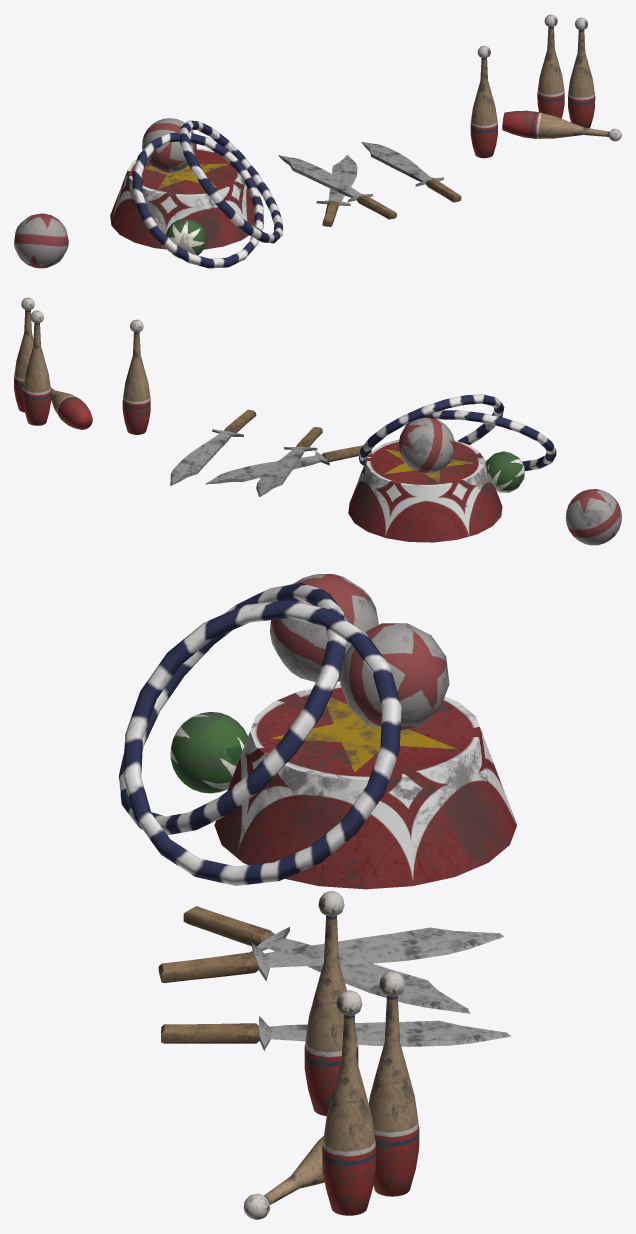
The model's file is props_lev1.glb.
The picture shows the model from 3 angles, top to bottom: view 1: azimuth 30°, elevation 25°; view 2: azimuth 150°, elevation 25°; view 3: azimuth 270°, elevation 25°; orthographic projection. The views are drawn at different scales.
Parts seen in each view (by area): view 1: CircusProps_Model, JugglingPinGroup_Model, ThrowingKnifePair_Model, CircusBall_model, JugglingPinSingle_Model, ThrowingKnifeSingle_Model; view 2: CircusProps_Model, JugglingPinGroup_Model, ThrowingKnifePair_Model, CircusBall_model, JugglingPinSingle_Model, ThrowingKnifeSingle_Model; view 3: CircusProps_Model, JugglingPinGroup_Model, ThrowingKnifePair_Model, JugglingPinSingle_Model, ThrowingKnifeSingle_Model, CircusBall_model.
Part boxes in pixels (left/top/right/bottom): CircusProps_Model: left=110, top=118, right=282, bottom=268; JugglingPinGroup_Model: left=502, top=14, right=621, bottom=141; ThrowingKnifePair_Model: left=278, top=155, right=396, bottom=226; CircusBall_model: left=14, top=213, right=68, bottom=268; JugglingPinSingle_Model: left=470, top=45, right=497, bottom=158; ThrowingKnifeSingle_Model: left=361, top=142, right=461, bottom=202; CircusProps_Model: left=348, top=394, right=556, bottom=542; JugglingPinGroup_Model: left=14, top=297, right=92, bottom=429; ThrowingKnifePair_Model: left=205, top=427, right=371, bottom=497; CircusBall_model: left=565, top=489, right=621, bottom=545; JugglingPinSingle_Model: left=122, top=319, right=150, bottom=434; ThrowingKnifeSingle_Model: left=170, top=409, right=256, bottom=485; CircusProps_Model: left=118, top=583, right=516, bottom=889; JugglingPinGroup_Model: left=243, top=971, right=419, bottom=1219; ThrowingKnifePair_Model: left=158, top=906, right=504, bottom=1013; JugglingPinSingle_Model: left=304, top=891, right=358, bottom=1116; ThrowingKnifeSingle_Model: left=161, top=1016, right=510, bottom=1050; CircusBall_model: left=270, top=574, right=378, bottom=681.
Size of the model in its own units: 34.29 by 6.2 by 10.09.
3 materials, 3 textured.
